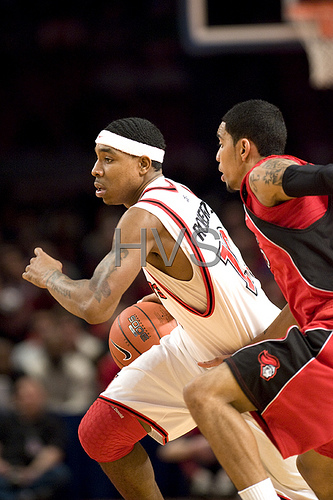basketball: (107, 300, 179, 369)
